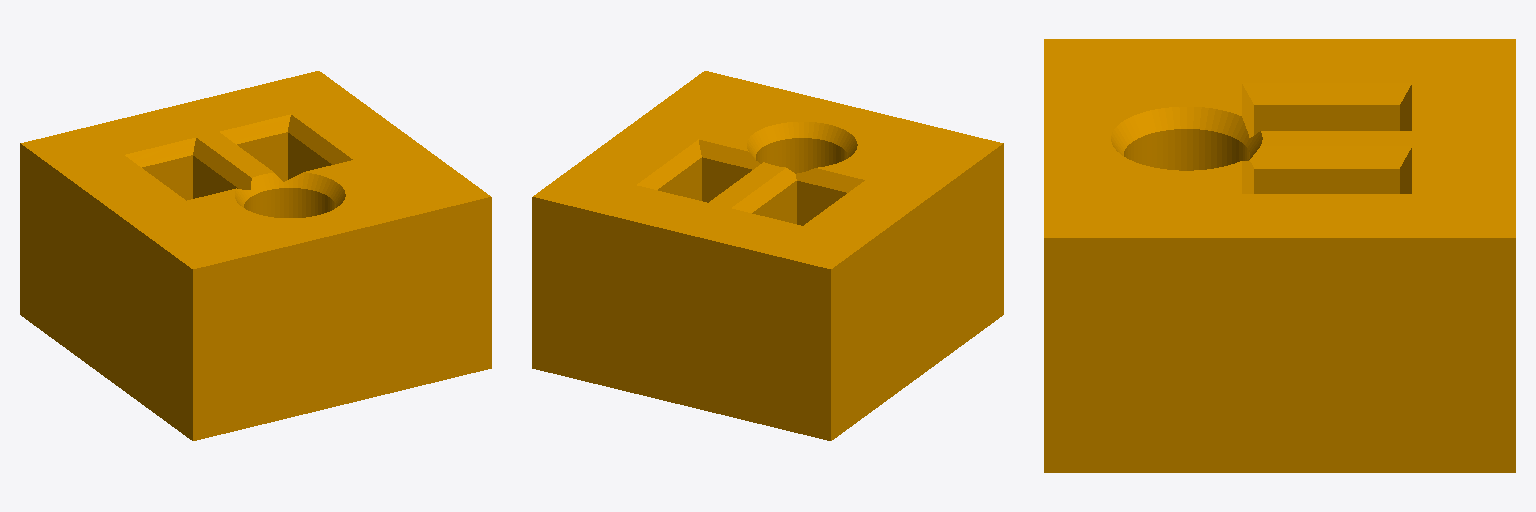
robot.urdf — nema_5_15_socket:
<?xml version="1.0"?>
<robot name="nema_5_15_socket">
  <link name="nema_5_15_socket">
    <visual><geometry><mesh filename="../mesh/nema_5_15/asset_socket.obj"/></geometry></visual>
    <collision><geometry><mesh filename="../mesh/nema_5_15/asset_socket.obj"/></geometry></collision>
  </link>
</robot>

--- Facts derived from the render (not from the file) ---
3 views of the same robot in one strip: view 1: azimuth 30°, elevation 25°; view 2: azimuth 150°, elevation 25°; view 3: azimuth 270°, elevation 25° (orthographic).
Robot: nema_5_15_socket — 1 links, 0 joints (none); root link nema_5_15_socket; default pose: all joints at 0.
Links seen in each view (by area): view 1: nema_5_15_socket; view 2: nema_5_15_socket; view 3: nema_5_15_socket.
Boxes of the visible links, x1,y1,x2,y2 form: nema_5_15_socket: (20, 71, 491, 440); nema_5_15_socket: (532, 71, 1003, 440); nema_5_15_socket: (1044, 39, 1515, 472).
Size in the robot's own frame: 0.04 by 0.04 by 0.022 metres.
1 mesh visuals loaded from 1 distinct referenced files (1 OBJ).
